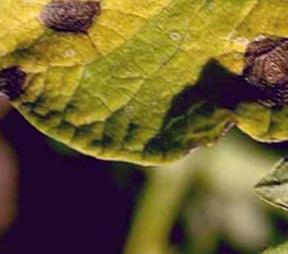Tomato Early blight leaf: (0, 0, 288, 163)
